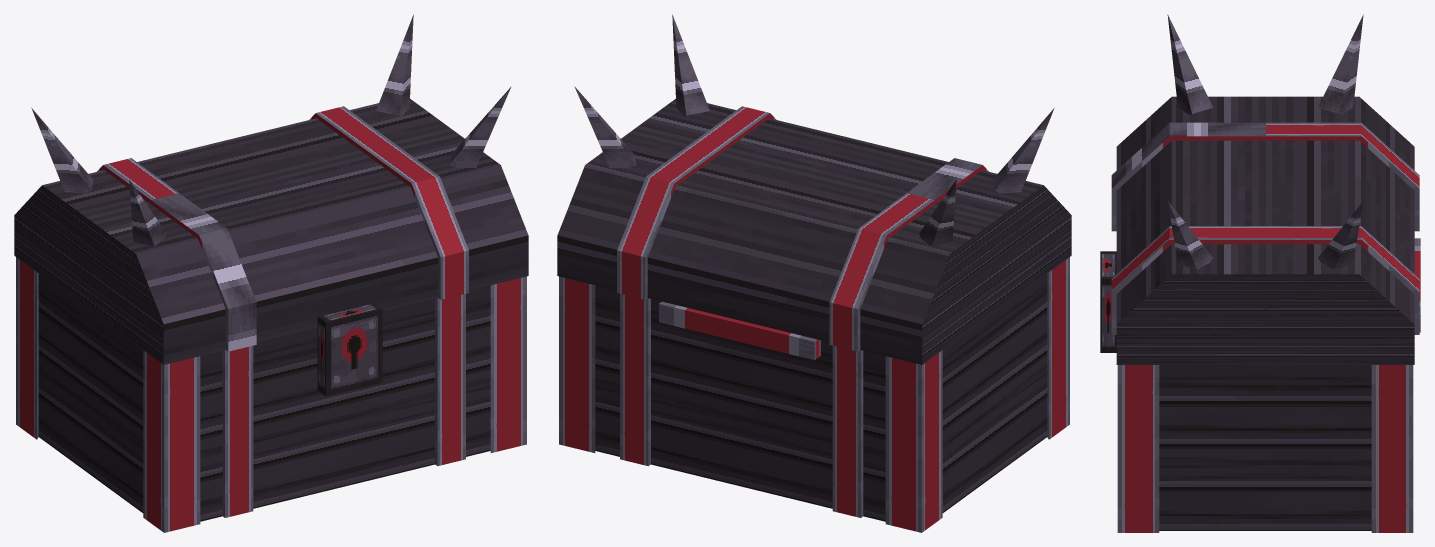
Rendered from chest_vampire.glb.
3 renders of one model, left to right at view 1: azimuth 30°, elevation 25°; view 2: azimuth 150°, elevation 25°; view 3: azimuth 270°, elevation 25°, orthographic.
Parts seen in each view (by area): view 1: lid, base, lock; view 2: lid, base; view 3: lid, base, lock.
Part boxes in pixels (x1=…): lid: x1=14, y1=14, x2=528, y2=364; base: x1=16, y1=257, x2=526, y2=532; lock: x1=317, y1=302, x2=382, y2=396; lid: x1=557, y1=14, x2=1071, y2=364; base: x1=559, y1=257, x2=1069, y2=532; lid: x1=1111, y1=14, x2=1419, y2=364; base: x1=1117, y1=238, x2=1420, y2=532; lock: x1=1100, y1=251, x2=1116, y2=352.
Size of the model in its own units: 1.08 by 0.912 by 0.785.
Materials: 1 (1 with a texture image).
